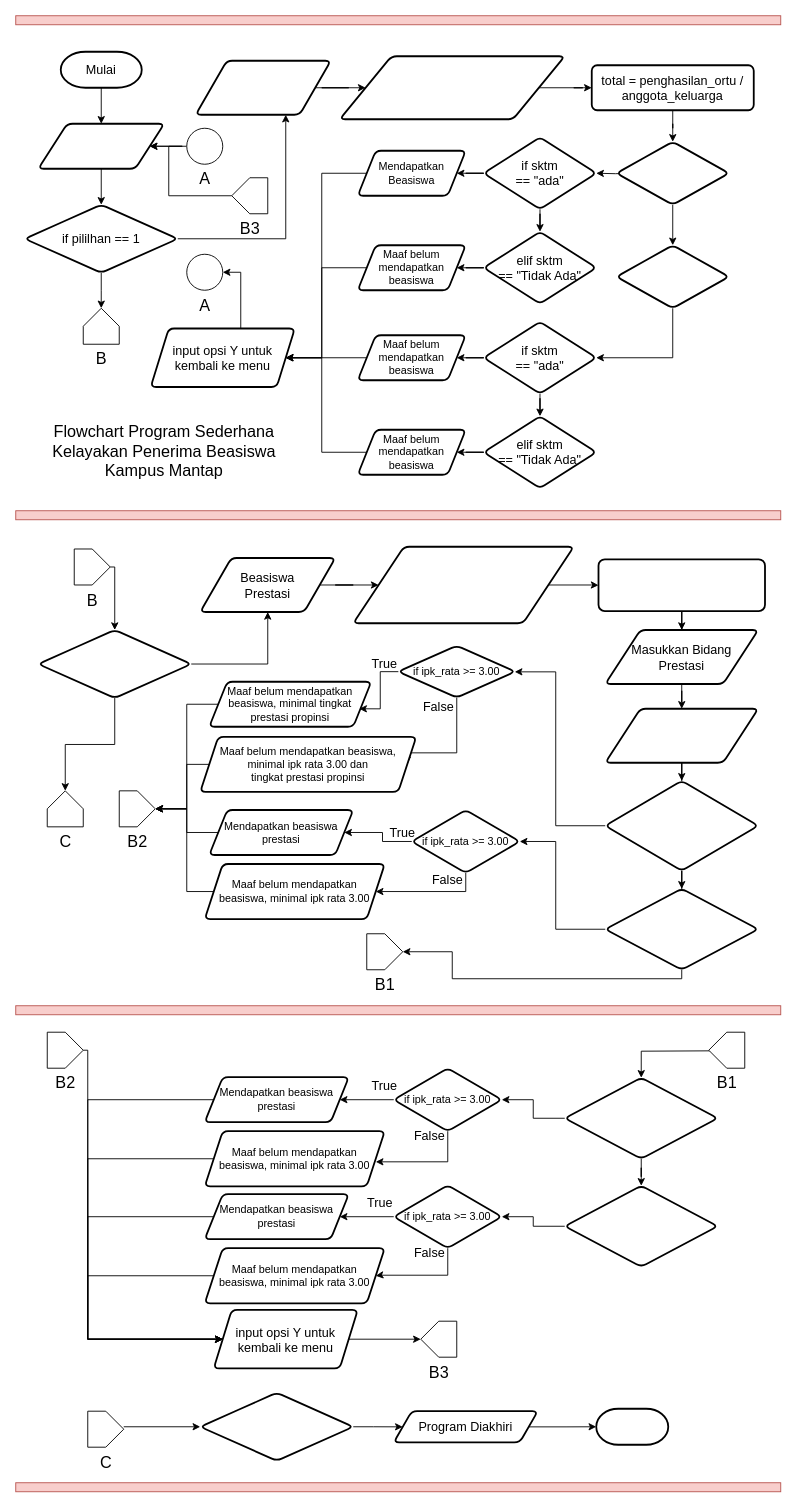
This 797x1508 diagram has some shape labels left out. Here are the shapes that lost their labels. From the top down, the box of each, then its label:
(194, 59, 331, 115): Beasiswa Keterangan Tidak Mampu
(338, 55, 565, 120): Masukkan nim, nama, fakultas, prodi, gaji_ortu, anggota_keluarga, sktm
(37, 122, 165, 169): Masukkan pilihan
(615, 140, 729, 205): if total <= 1500000
(615, 244, 729, 309): elif total >= 1500000
(352, 545, 574, 624): Masukkan nim, nama, fakultas, prodi, ipkd1, ipkd2, ipkd3
(597, 558, 765, 612): ipk_total = ipkd1 + ipkd2 + ipkd3 ipk_rata = ipk_total / 3
(37, 629, 192, 698): elif pililhan == 2
(604, 707, 759, 763): Masukkan Tingkat Prestasi
(604, 779, 759, 871): if tingkat_prestasi == "Kabupaten/Kota"
(604, 887, 759, 970): elif tingkat_prestasi == "Propinsi"
(563, 1076, 718, 1159): elif tingkat_prestasi == "Nasional"
(563, 1184, 718, 1267): elif tingkat_prestasi == "Internasional"
(199, 1391, 354, 1461): elif pililhan == 3
(595, 1407, 669, 1445): Selesai
